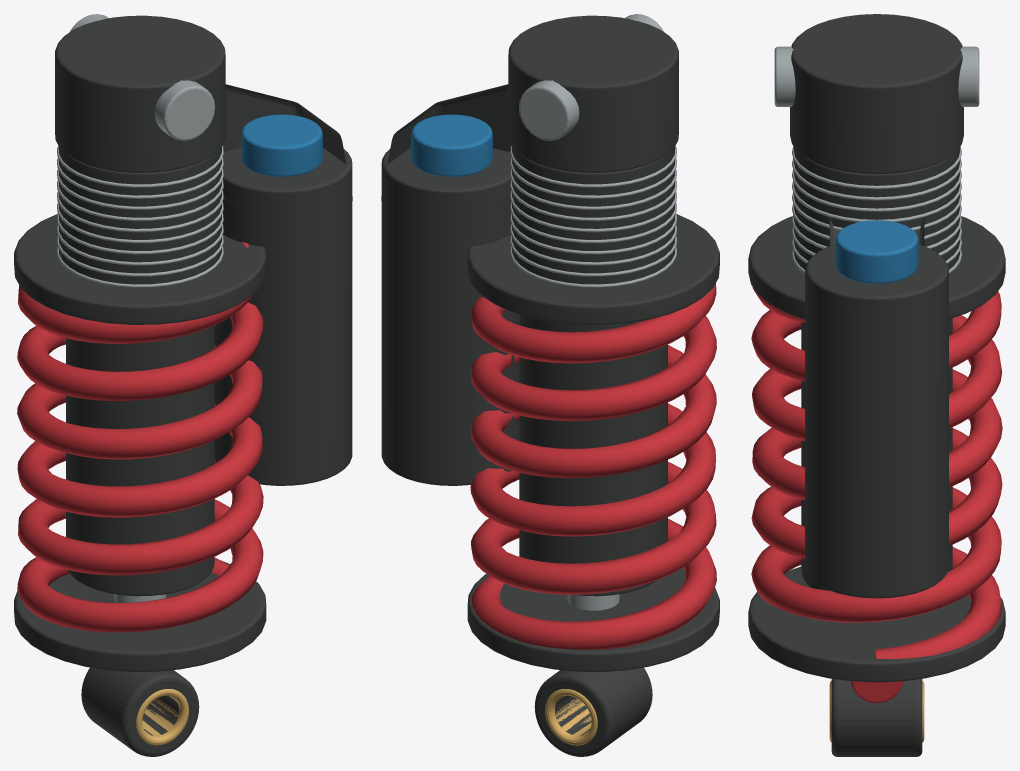
The model's file is rockshox-vivid-coil-ultimate-d1--3d6adc45.glb.
3 views of the same model, side by side, from view 1: azimuth 30°, elevation 25°; view 2: azimuth 150°, elevation 25°; view 3: azimuth 270°, elevation 25° (orthographic).
Visible parts, largest first — view 1: rockshox-vivid-coil-ultimate-d1--3d6adc45__link, rockshox-vivid-coil-ultimate-d1--3d6adc45__rebound, rockshox-vivid-coil-ultimate-d1--3d6adc45__bolts, rockshox-vivid-coil-ultimate-d1--3d6adc45__adjuster, rockshox-vivid-coil-ultimate-d1--3d6adc45__stanchions; view 2: rockshox-vivid-coil-ultimate-d1--3d6adc45__link, rockshox-vivid-coil-ultimate-d1--3d6adc45__rebound, rockshox-vivid-coil-ultimate-d1--3d6adc45__bolts, rockshox-vivid-coil-ultimate-d1--3d6adc45__adjuster, rockshox-vivid-coil-ultimate-d1--3d6adc45__stanchions; view 3: rockshox-vivid-coil-ultimate-d1--3d6adc45__link, rockshox-vivid-coil-ultimate-d1--3d6adc45__rebound, rockshox-vivid-coil-ultimate-d1--3d6adc45__bolts, rockshox-vivid-coil-ultimate-d1--3d6adc45__adjuster.
Part boxes in pixels (box(x1,y1,x2,y2)): rockshox-vivid-coil-ultimate-d1--3d6adc45__link: box(14, 15, 352, 756); rockshox-vivid-coil-ultimate-d1--3d6adc45__rebound: box(17, 242, 263, 632); rockshox-vivid-coil-ultimate-d1--3d6adc45__bolts: box(57, 14, 223, 602); rockshox-vivid-coil-ultimate-d1--3d6adc45__adjuster: box(241, 114, 322, 176); rockshox-vivid-coil-ultimate-d1--3d6adc45__stanchions: box(136, 689, 188, 745); rockshox-vivid-coil-ultimate-d1--3d6adc45__link: box(381, 15, 719, 756); rockshox-vivid-coil-ultimate-d1--3d6adc45__rebound: box(470, 283, 716, 649); rockshox-vivid-coil-ultimate-d1--3d6adc45__bolts: box(510, 14, 676, 610); rockshox-vivid-coil-ultimate-d1--3d6adc45__adjuster: box(411, 114, 492, 176); rockshox-vivid-coil-ultimate-d1--3d6adc45__stanchions: box(545, 689, 597, 745); rockshox-vivid-coil-ultimate-d1--3d6adc45__link: box(748, 14, 1005, 756); rockshox-vivid-coil-ultimate-d1--3d6adc45__rebound: box(751, 287, 1002, 703); rockshox-vivid-coil-ultimate-d1--3d6adc45__bolts: box(774, 46, 979, 273); rockshox-vivid-coil-ultimate-d1--3d6adc45__adjuster: box(835, 220, 918, 283).
Bounding box in the file's own units: 0.097 × 0.205 × 0.068.
